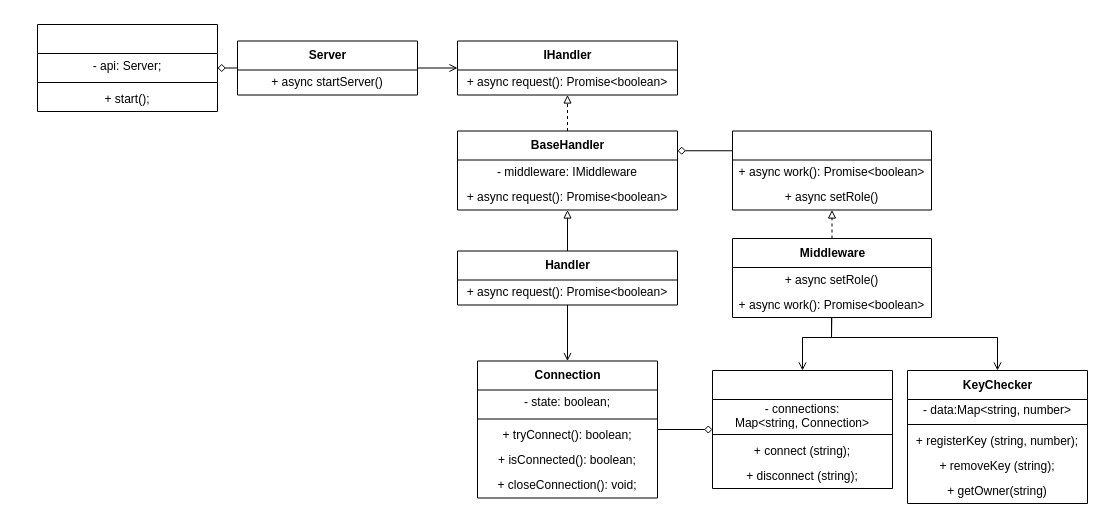
The diagram is 1114 pixels wide and 524 high, and some of its shapes have lost their labels. The shapes that lost their labels are listed below. From the top down, each one's box as (x1, y1, x2, y2) in pixels, then its label:
(36, 24, 218, 112): App
(732, 130, 932, 210): IMiddleware
(712, 370, 892, 488): ConnectManager
